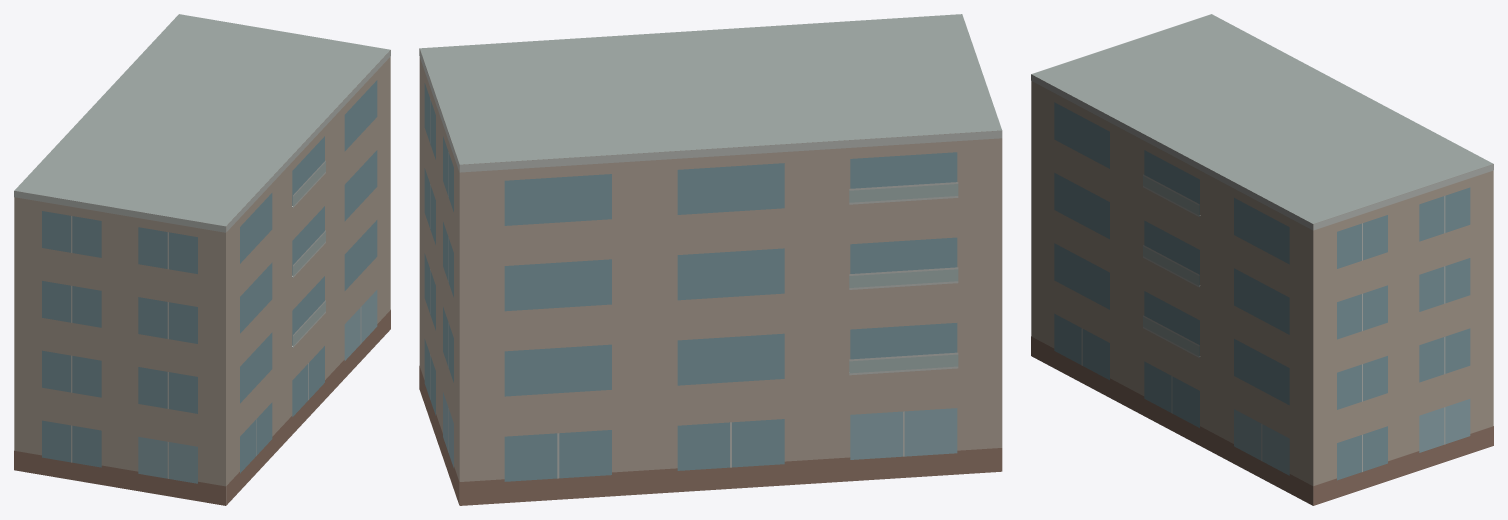
Rendered from survey-upis-32724206.glb.
3 renders of one model, left to right at view 1: azimuth 30°, elevation 25°; view 2: azimuth 150°, elevation 25°; view 3: azimuth 270°, elevation 25°, orthographic. The views are drawn at different scales.
Visible parts, largest first — view 1: survey-upis-32724206.tmp; view 2: survey-upis-32724206.tmp; view 3: survey-upis-32724206.tmp.
Part boxes in pixels (x1,y1,x2,y2): survey-upis-32724206.tmp: [14, 14, 390, 505]; survey-upis-32724206.tmp: [419, 14, 1002, 505]; survey-upis-32724206.tmp: [1031, 14, 1493, 505].
Bounding box in the file's own units: 16.95 × 10.6 × 15.78.
